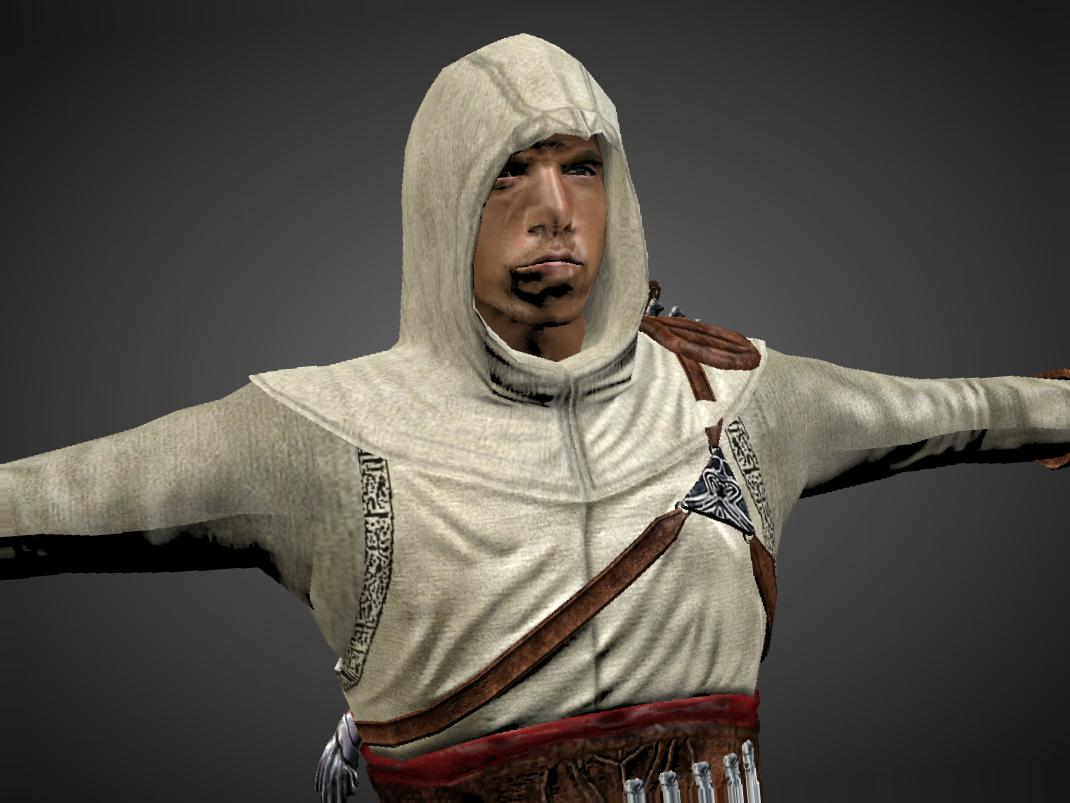clip: (688, 390, 731, 434)
